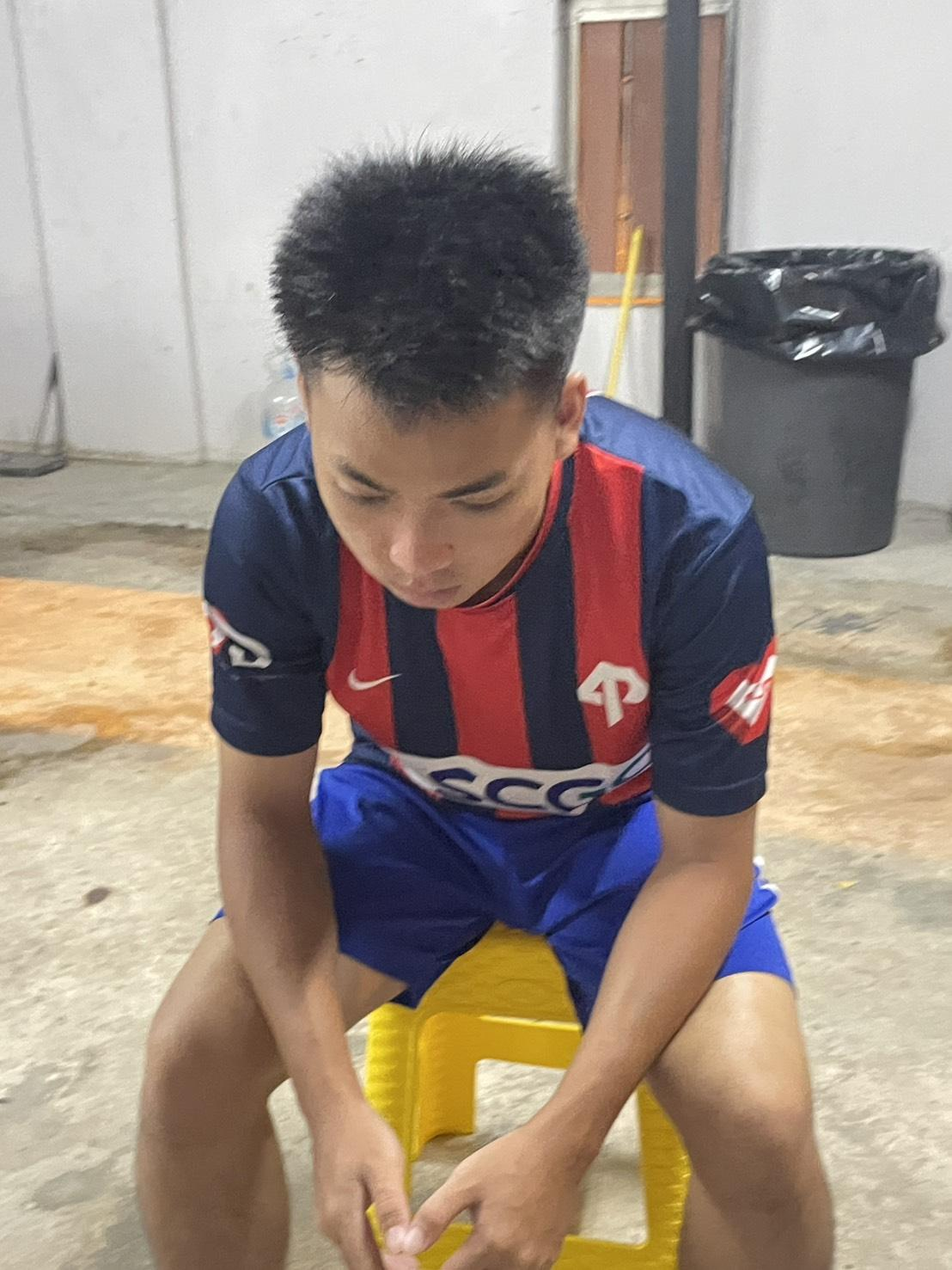BadPosture: (137, 147, 833, 1269)
